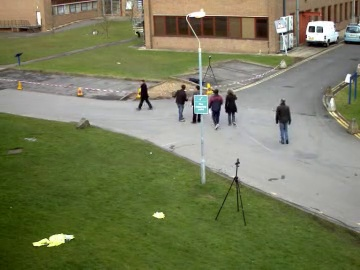person: (174, 84, 191, 121), (137, 80, 153, 113), (138, 79, 153, 112)
